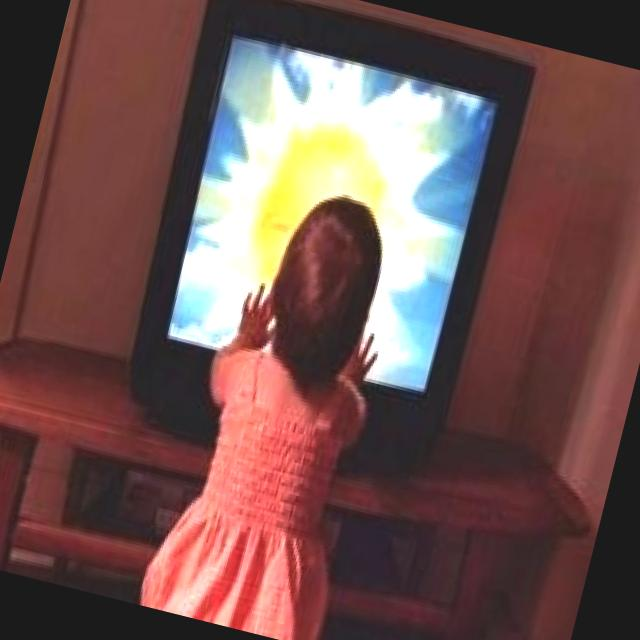no_vest: (143, 315, 398, 640)
